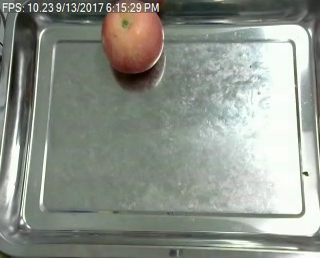Apple: (100, 2, 163, 75)
